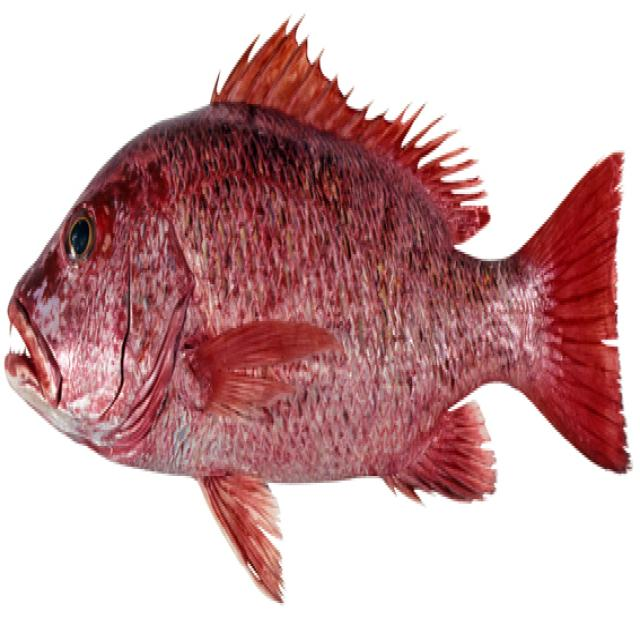ikan: (3, 12, 631, 603)
